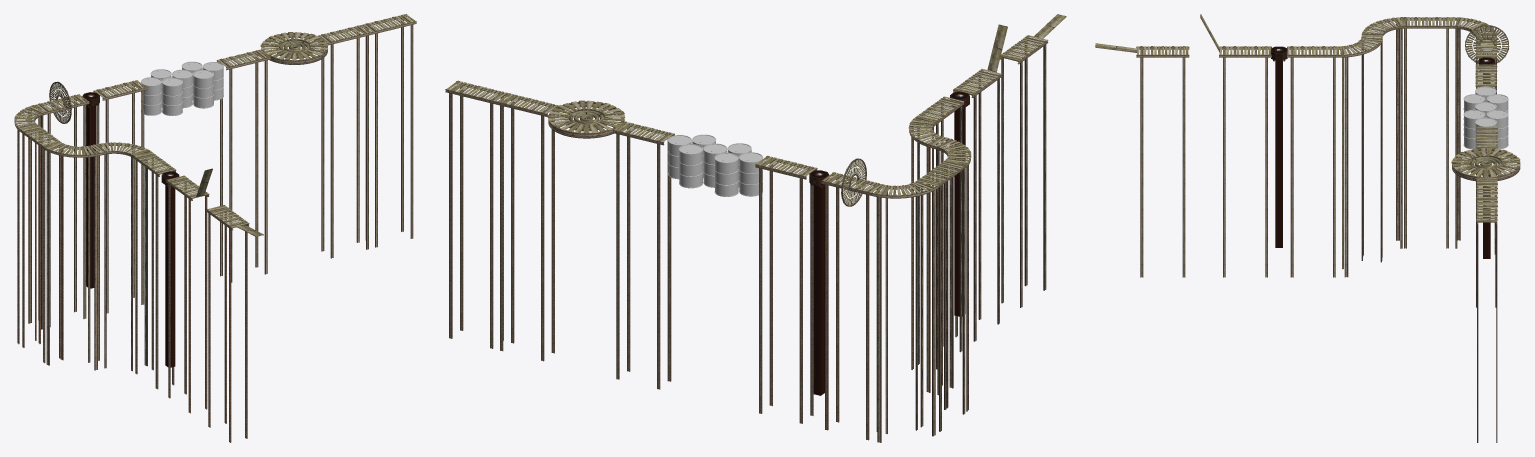
3 renders of one model, left to right at view 1: azimuth 30°, elevation 25°; view 2: azimuth 150°, elevation 25°; view 3: azimuth 270°, elevation 25°, orthographic. The views are drawn at different scales.
Parts seen in each view (by area): view 1: Ramp_001__19_, ramp_009__4_, Ramp_001__29_, Ramp_001__34_, Ramp_001__33_, Ramp_001__11_, Ramp_001__18_, ramp_009__5_, ramp_009__3_, Ramp_001__32_, Ramp_001__30_, Ramp_001__31_ (+9 smaller); view 2: Ramp_001__29_, Ramp_001__30_, Ramp_001__19_, ramp_009__3_, Ramp_001__34_, Ramp_001__31_, Ramp_001__11_, Ramp_001__18_, ramp_009__4_, Ramp_001__33_, ramp_009__5_, hakkero__1_ (+9 smaller); view 3: ramp_009__5_, ramp_009__4_, Ramp_001__34_, Ramp_001__32_, Ramp_001__33_, Ramp_001__11_, Circle_ramp2__1_, hakkero__3_, ramp_009__3_, Ramp_001__18_, Circle_ramp, Ramp_001__30_ (+6 smaller).
Part boxes in pixels (box(x1,y1,x2,y2)): Ramp_001__19_: box(318, 25, 372, 258); ramp_009__4_: box(44, 142, 102, 370); Ramp_001__29_: box(216, 49, 270, 282); Ramp_001__34_: box(206, 205, 249, 442); Ramp_001__33_: box(166, 175, 209, 413); Ramp_001__11_: box(21, 125, 62, 363); Ramp_001__18_: box(362, 14, 416, 247); ramp_009__5_: box(92, 142, 150, 371); ramp_009__3_: box(14, 105, 45, 344); Ramp_001__32_: box(133, 151, 176, 389); Ramp_001__30_: box(93, 80, 147, 313); Ramp_001__31_: box(35, 94, 89, 327); Ramp_001__29_: box(612, 121, 674, 389); Ramp_001__30_: box(755, 155, 817, 423); Ramp_001__19_: box(496, 93, 558, 361); ramp_009__3_: box(872, 180, 938, 442); Ramp_001__34_: box(1000, 35, 1048, 307); Ramp_001__31_: box(821, 172, 883, 440); Ramp_001__11_: box(918, 159, 967, 431); Ramp_001__18_: box(445, 80, 507, 348); ramp_009__4_: box(934, 137, 971, 411); Ramp_001__33_: box(953, 69, 1002, 341); ramp_009__5_: box(908, 118, 945, 392); hakkero__1_: box(809, 170, 829, 395); ramp_009__5_: box(1339, 36, 1382, 277); ramp_009__4_: box(1361, 17, 1404, 257); Ramp_001__34_: box(1136, 46, 1189, 277); Ramp_001__32_: box(1287, 46, 1339, 277); Ramp_001__33_: box(1219, 46, 1271, 277); Ramp_001__11_: box(1400, 17, 1452, 248); Circle_ramp2__1_: box(1451, 148, 1520, 181); hakkero__3_: box(1271, 46, 1287, 247); ramp_009__3_: box(1452, 17, 1496, 254); Ramp_001__18_: box(1476, 199, 1497, 442); Circle_ramp: box(1465, 25, 1509, 63); Ramp_001__30_: box(1475, 64, 1497, 307).
Bounding box in the file's own units: 4598 × 2689 × 4030.
